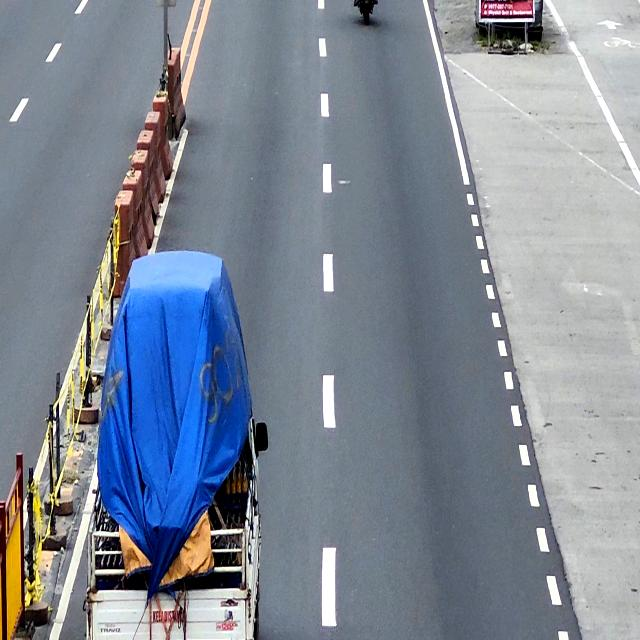Truck: (88, 246, 268, 640)
